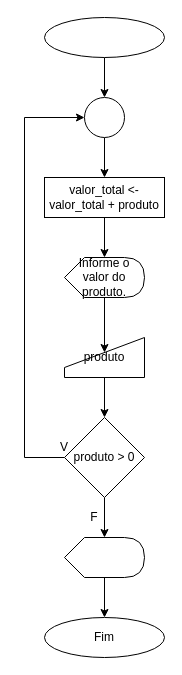
This 182x675 diagram has some shape labels left out. The centre of each missing label's shape, as x and y in pixels:
"Início" goes at point 104,37.
"O valor da compra é de: R$ valor_total" goes at point 104,557.
